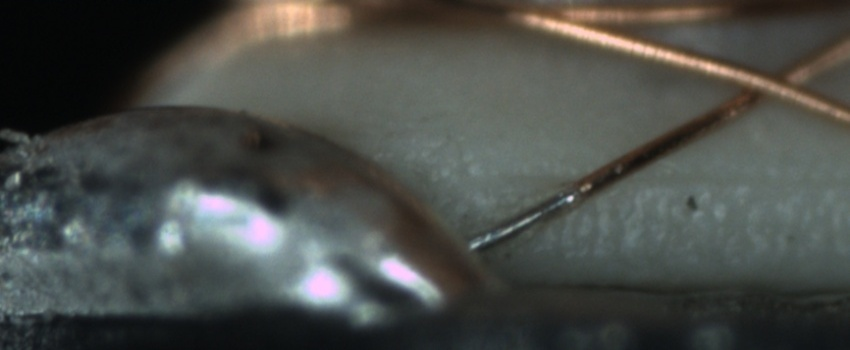CL: (703, 53, 834, 116)
DL: (514, 151, 850, 204)
TS: (469, 184, 583, 252)
TTCW: (467, 166, 608, 253)
